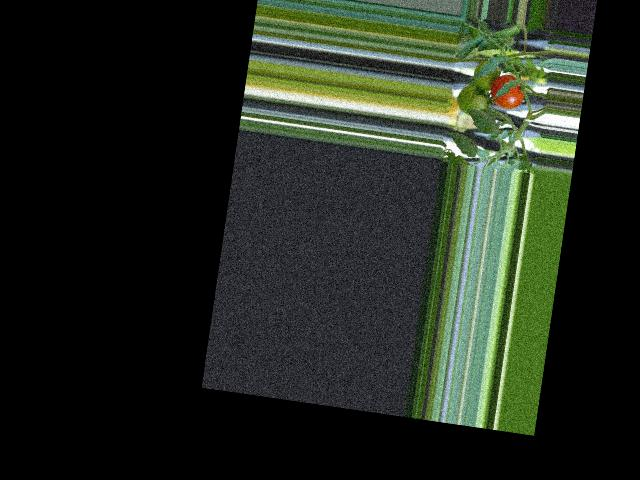tomato: (488, 72, 526, 111)
